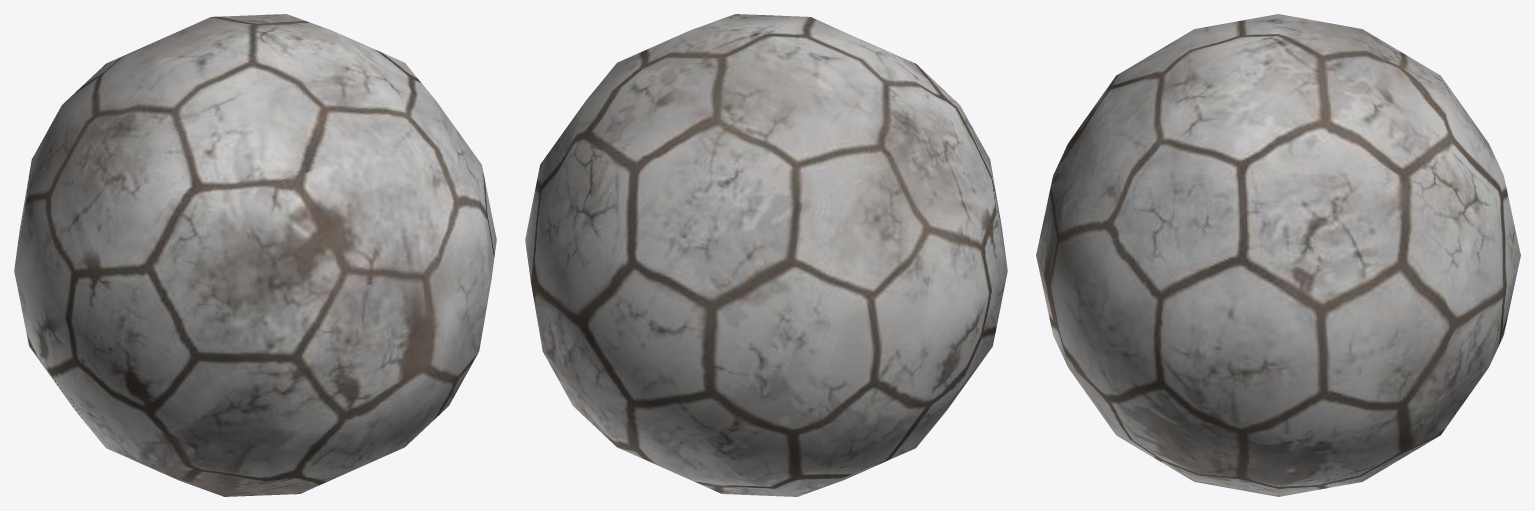
The model's file is ballon-use.glb.
3 renders of one model, left to right at view 1: azimuth 30°, elevation 25°; view 2: azimuth 150°, elevation 25°; view 3: azimuth 270°, elevation 25°, orthographic.
Parts seen in each view (by area): view 1: Old Ball.001; view 2: Old Ball.001; view 3: Old Ball.001.
Boxes of the visible parts, x1=… form: Old Ball.001: x1=14, y1=14, x2=496, y2=496; Old Ball.001: x1=525, y1=14, x2=1007, y2=496; Old Ball.001: x1=1036, y1=14, x2=1520, y2=496.
Bounding box in the file's own units: 0.2138 × 0.2138 × 0.2138.
Materials: 1 (1 with a texture image).
